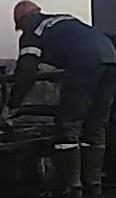gloves: (0, 101, 22, 140)
helmet: (13, 0, 41, 30)
vest: (18, 12, 115, 71)
